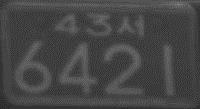1: (151, 43, 185, 97)
2: (103, 41, 144, 96)
3: (85, 11, 112, 36)
4: (57, 41, 98, 94), (54, 11, 80, 37)
6: (13, 39, 51, 94)
서: (117, 13, 144, 38)
